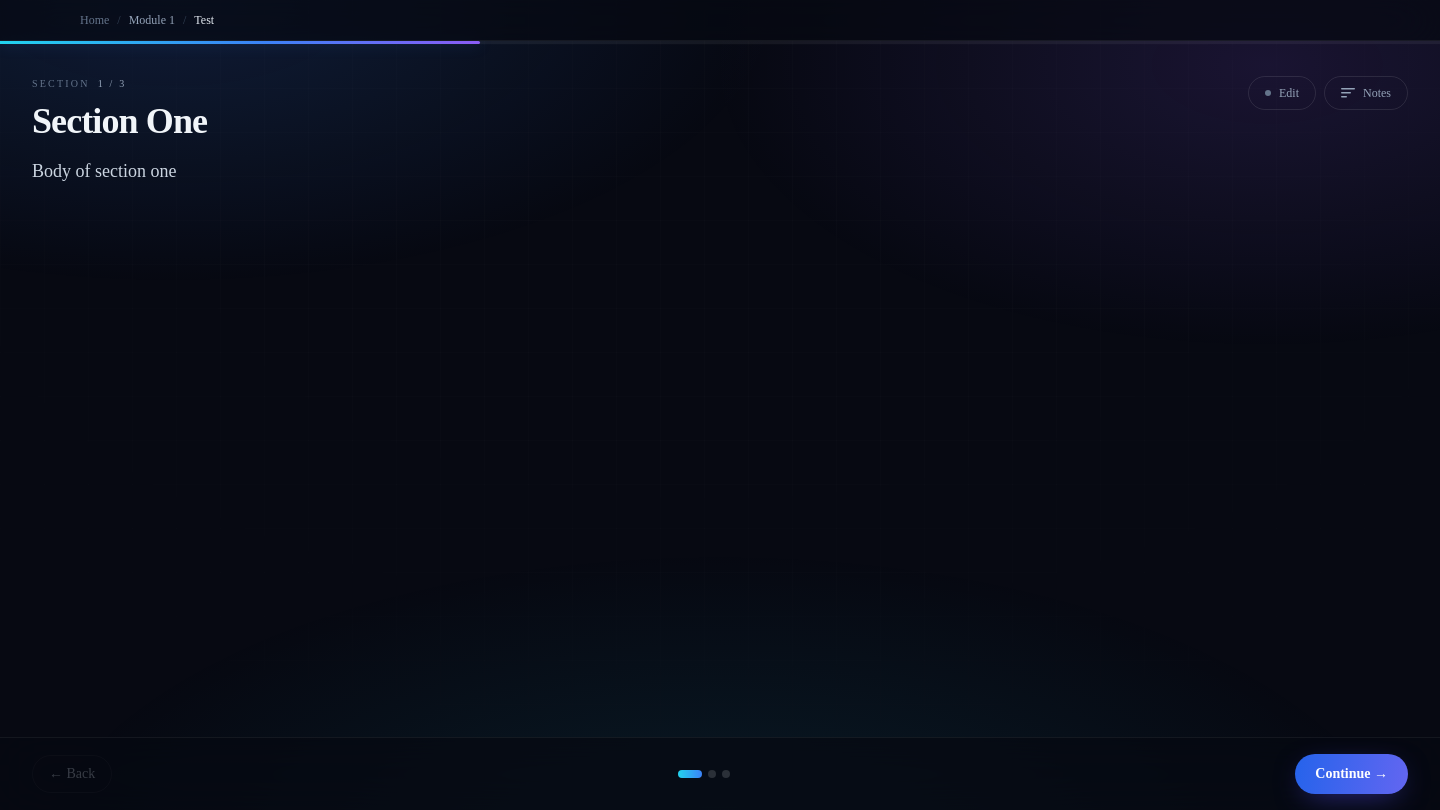
enabling edit mode lets you edit and save a slide override
# Toggle edit mode on
Click the button "Edit". click: (1282, 93)
box: [1248,76,1316,110]
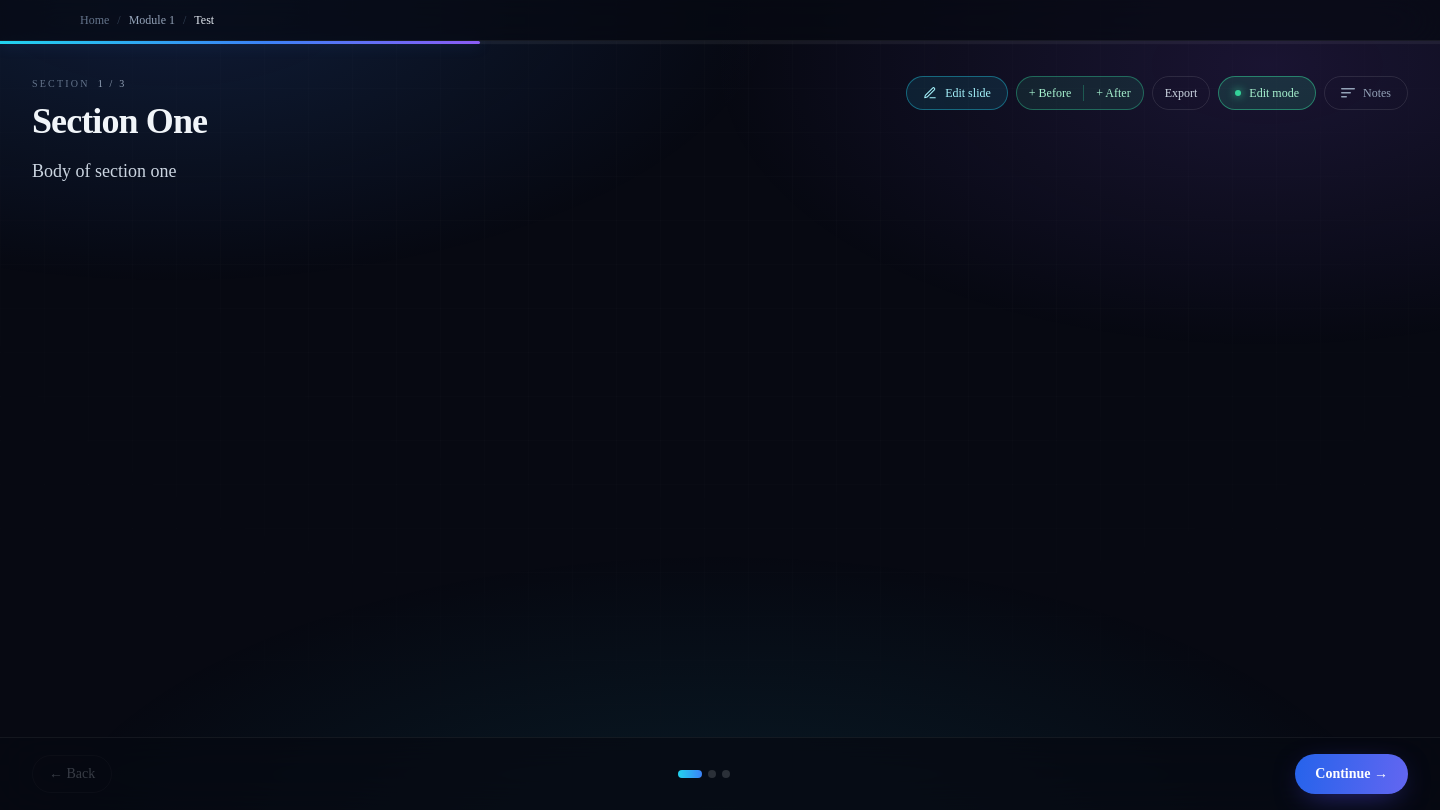
# The "Edit slide" affordance now appears
Click the button "Edit slide". click: (957, 93)
box: [906,76,1008,110]
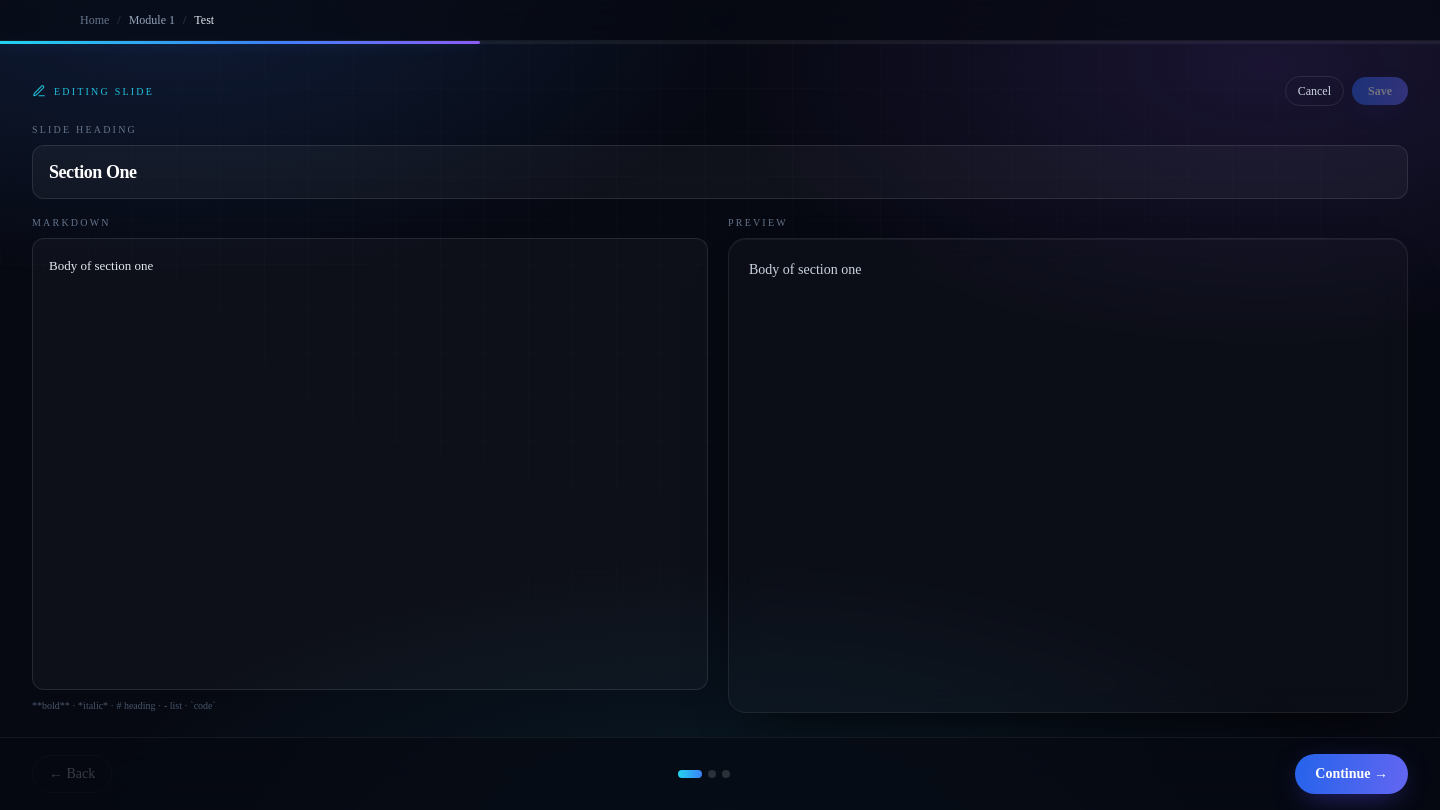
# Change the body in the markdown textarea and save
Replace the text in the text box showing "Body of section one" with "Rewritten body". click: (370, 464)
box: [32,238,708,690]
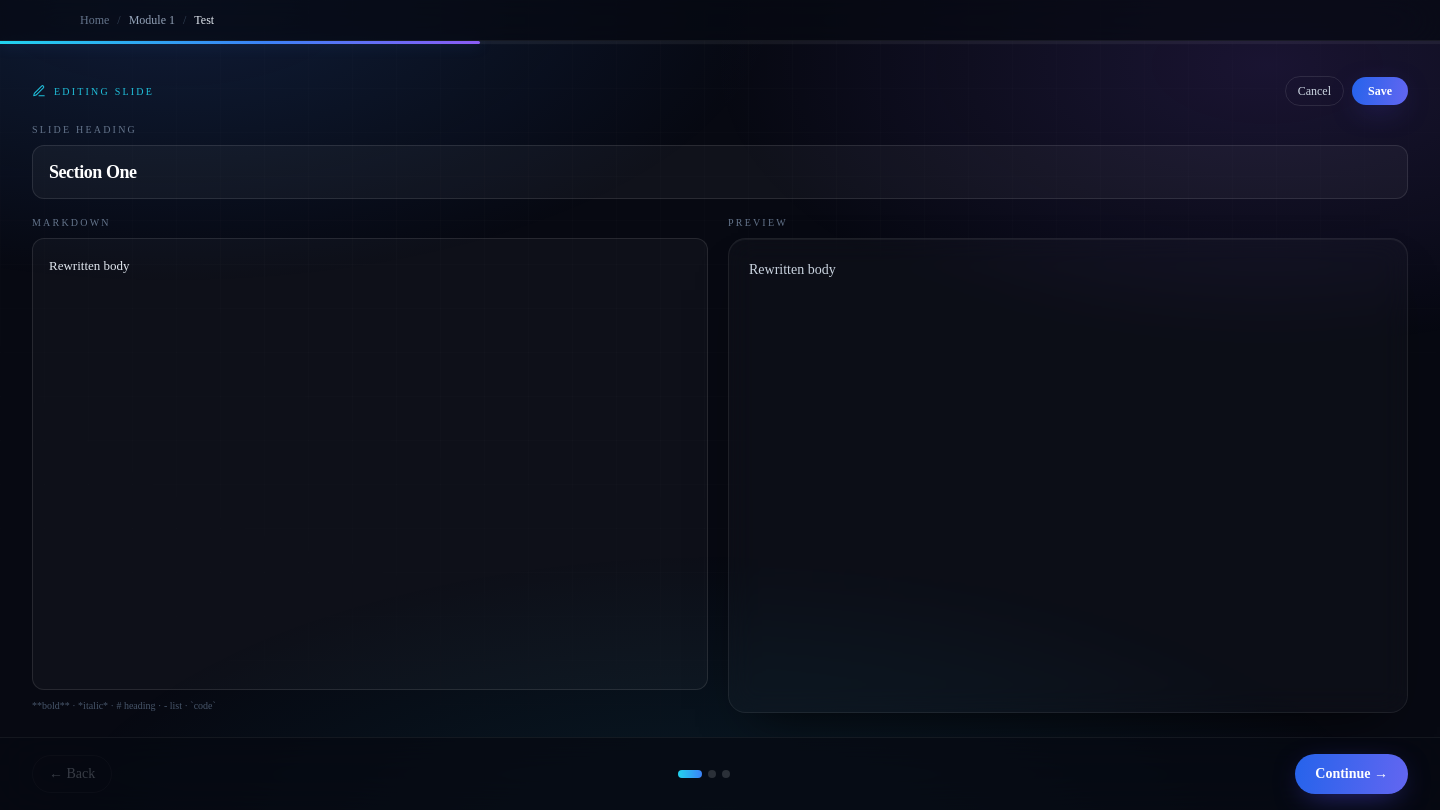
Click the button "Save". click: (1380, 91)
box: [1352,77,1408,105]
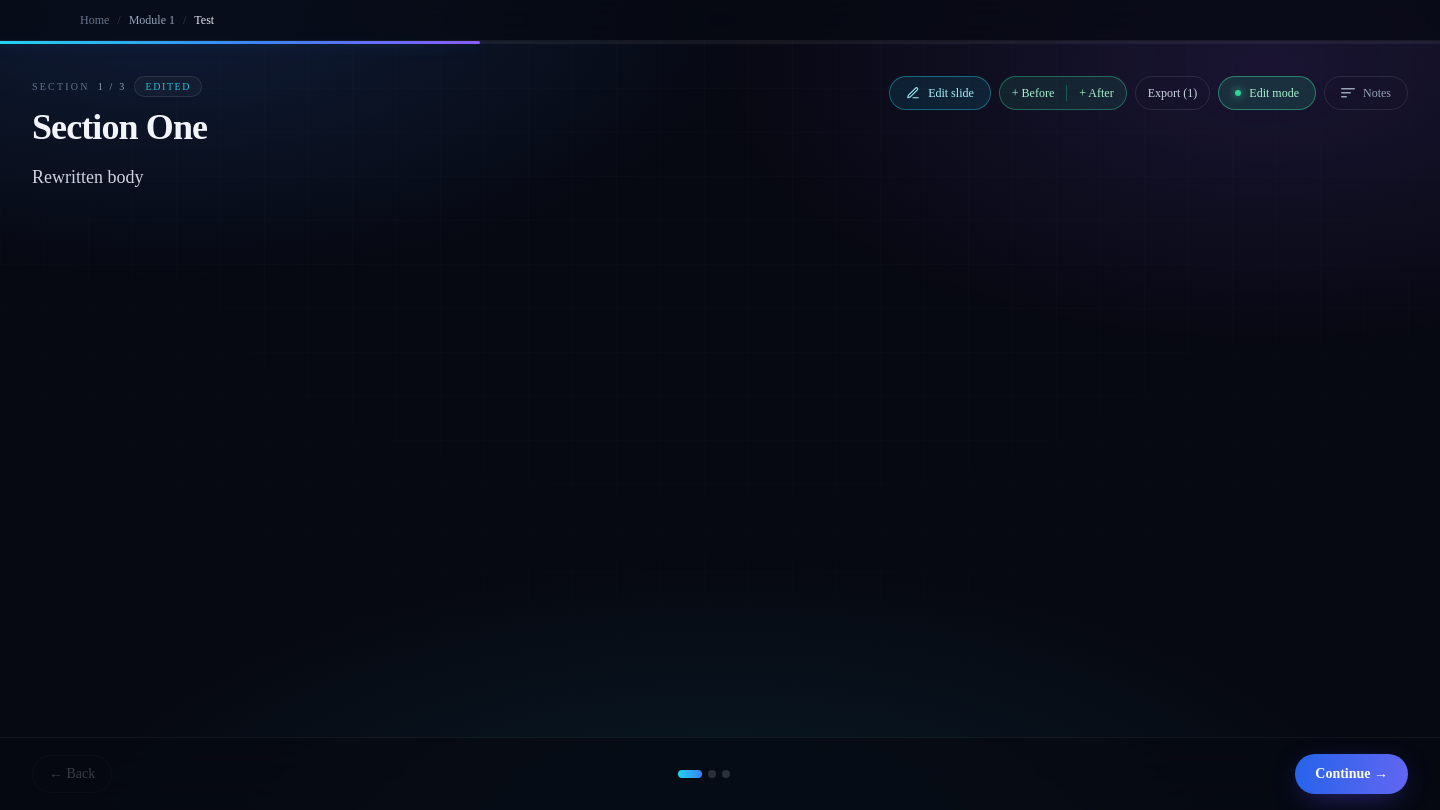
Check: the text "Rewritten body" is shown, box [32,167,144,187]
Check: the text "edited" is shown, box [134,76,202,97]
